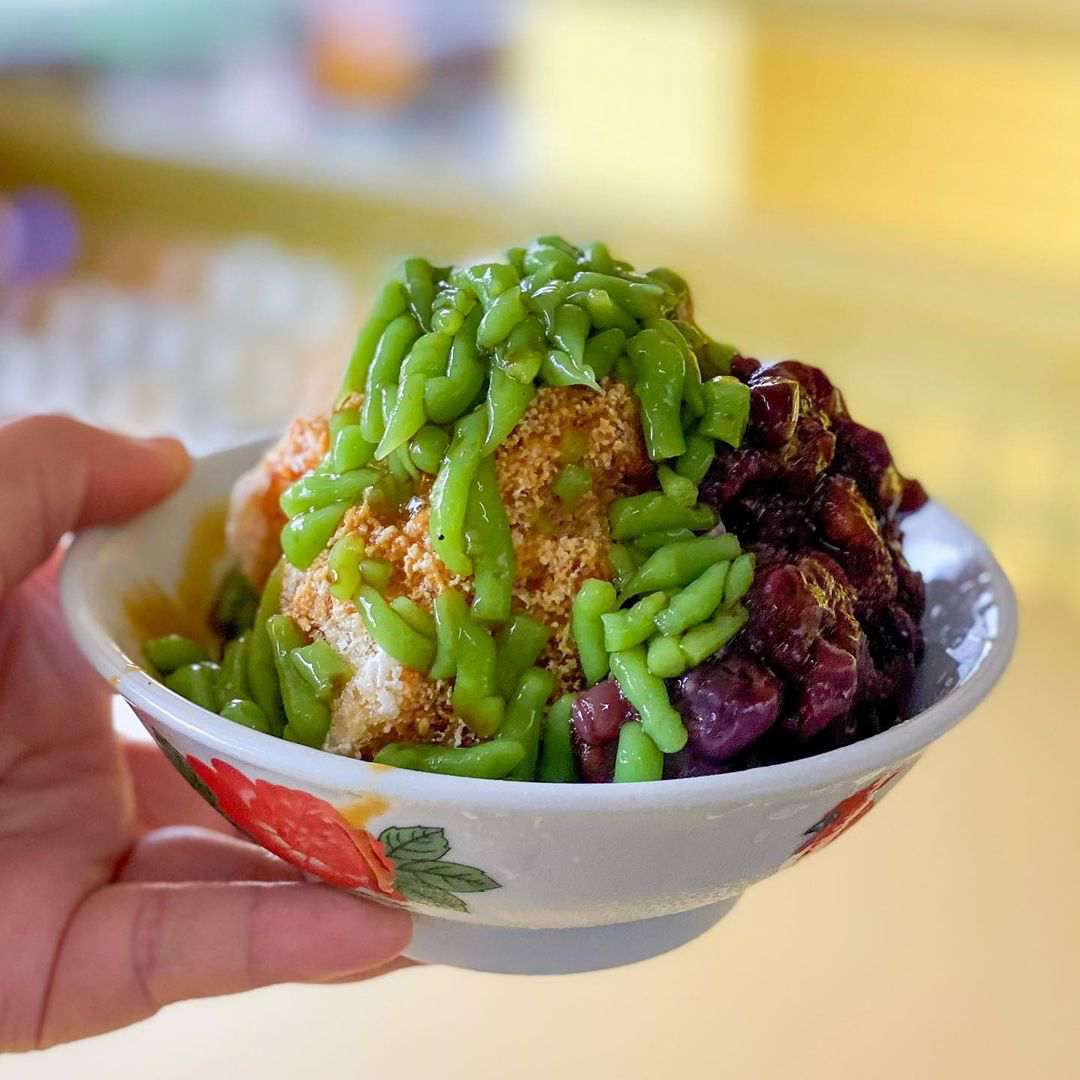Chendol: (193, 255, 1001, 867)
